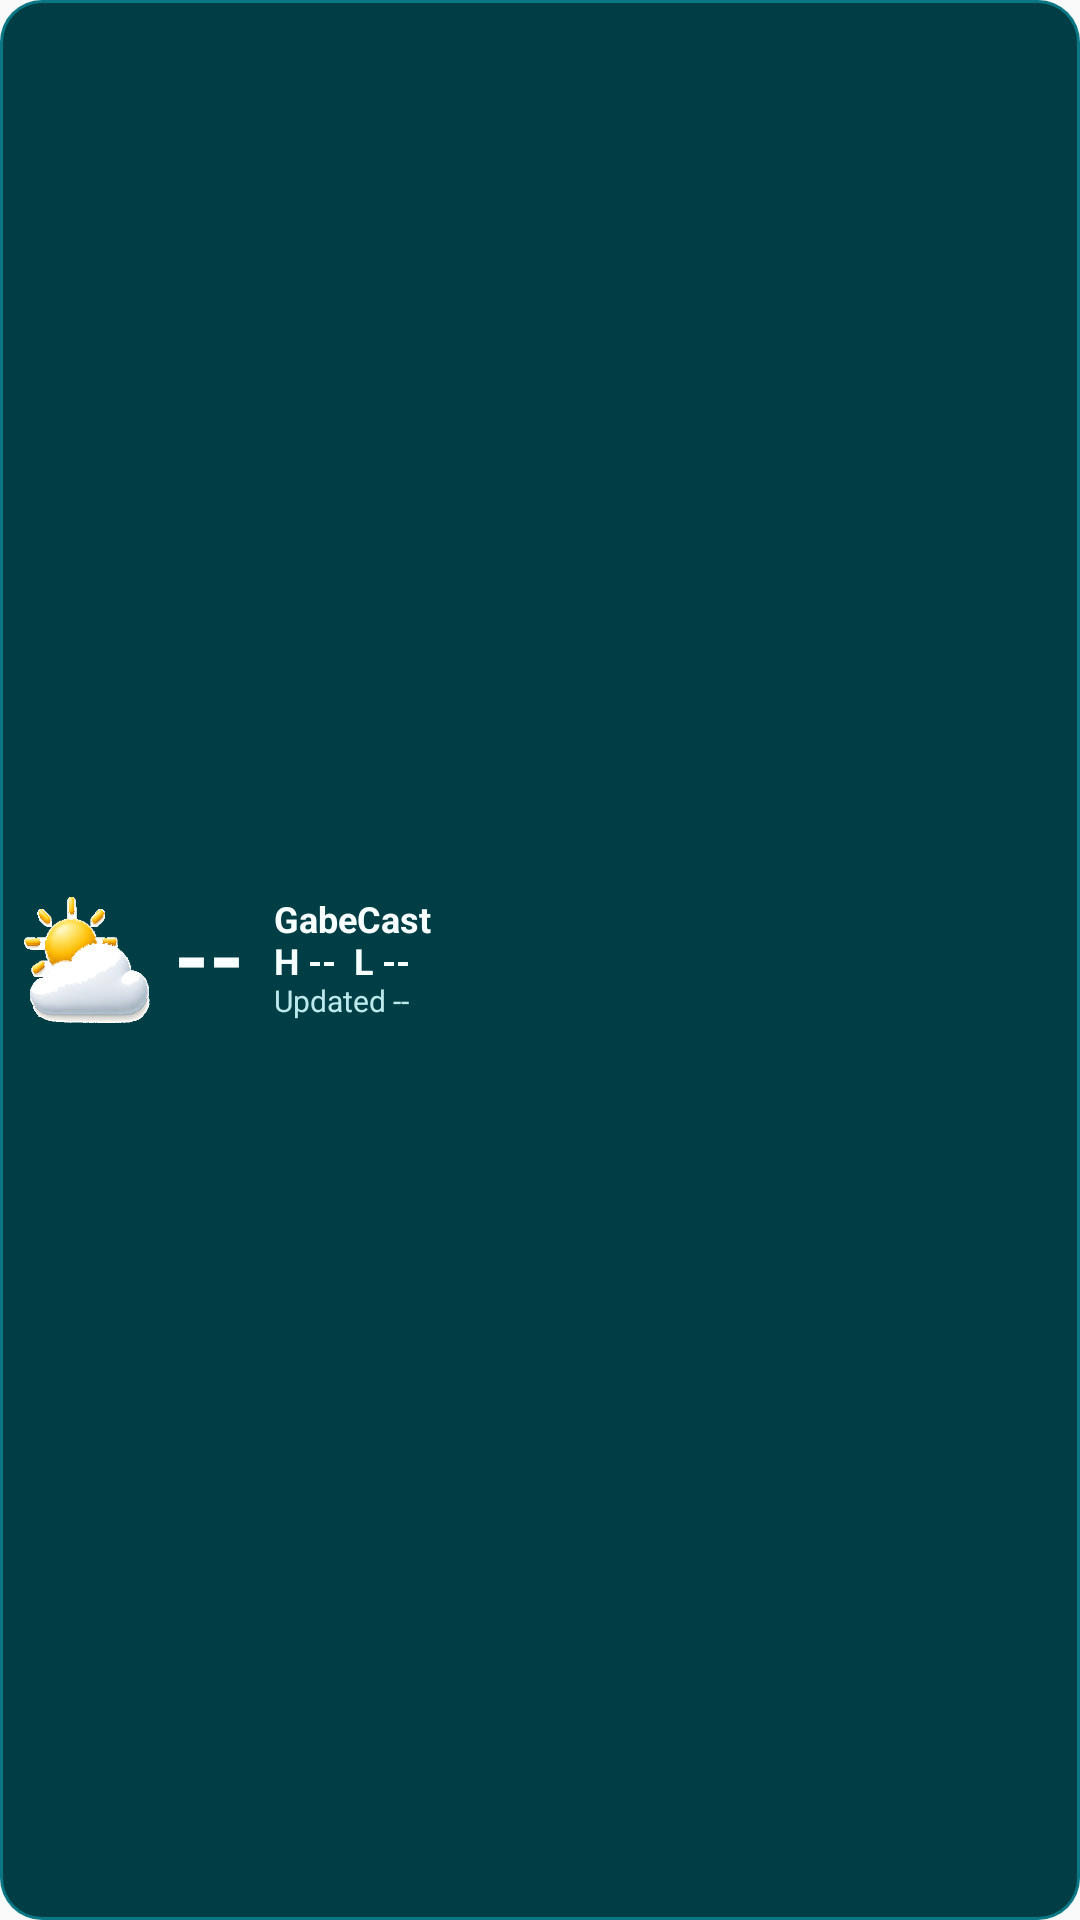

Named icons in this screenshot (1080 × 1920) and their centers, (x=x, y=y):
Weather: (x=87, y=960)
